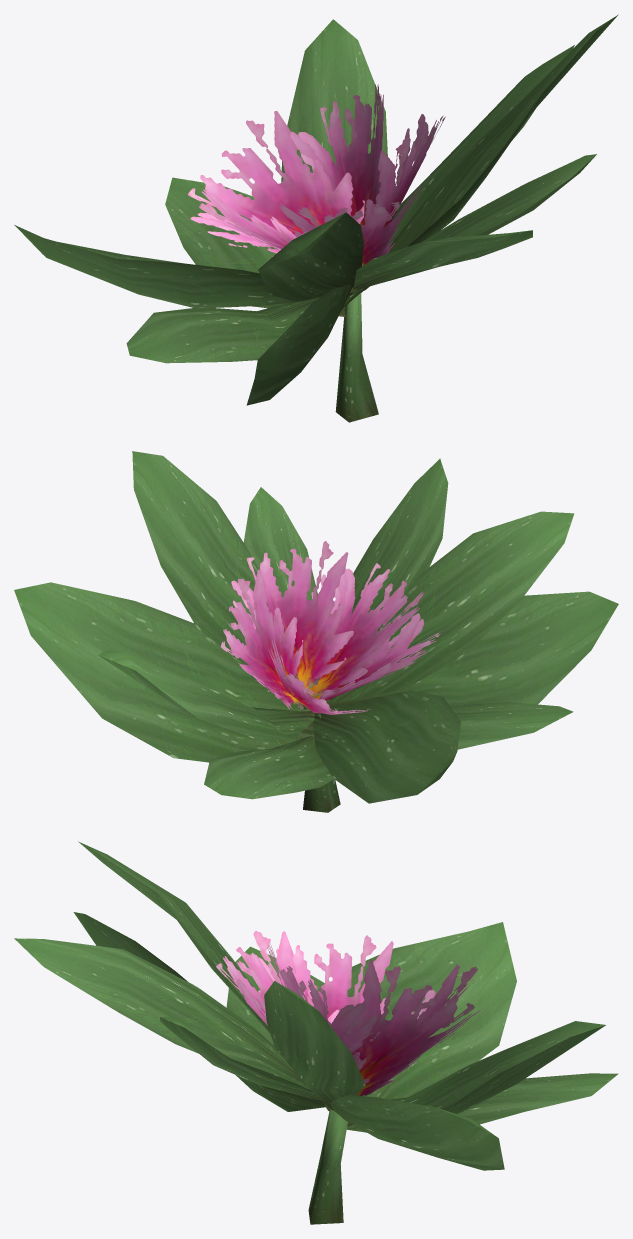
File: flower2.glb
3 views of the same model, one above another, from view 1: azimuth 30°, elevation 25°; view 2: azimuth 150°, elevation 25°; view 3: azimuth 270°, elevation 25° (orthographic). The views are drawn at different scales.
Visible parts, largest first — view 1: node_id319; view 2: node_id319; view 3: node_id319.
Part boxes in pixels (x1,y1,x2,y2): node_id319: (14, 14, 618, 422); node_id319: (14, 451, 618, 812); node_id319: (14, 841, 618, 1224).
Size of the model in its own units: 0.1248 by 0.0753 by 0.1207.
Materials: 1 (1 with a texture image).
